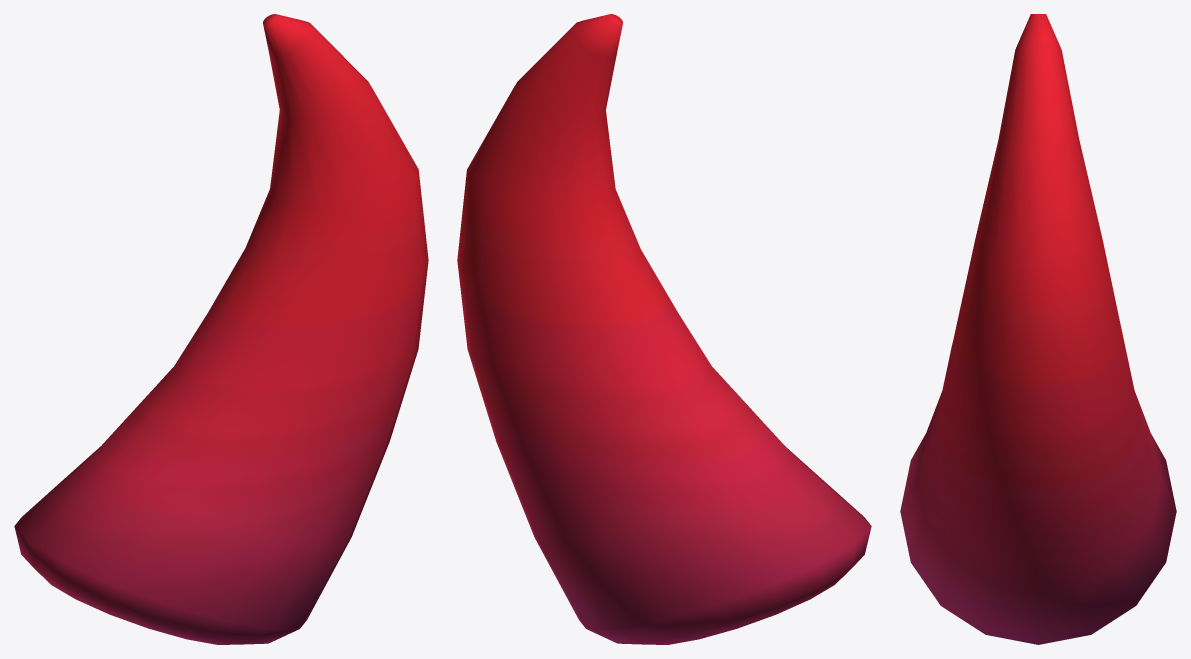
File: horns.fbx
3 renders of one model, left to right at view 1: azimuth 30°, elevation 25°; view 2: azimuth 150°, elevation 25°; view 3: azimuth 270°, elevation 25°, orthographic. The views are drawn at different scales.
Visible parts, largest first — view 1: devil_horns_0; view 2: devil_horns_0; view 3: devil_horns_0.
Part boxes in pixels (x1,y1,x2,y2): devil_horns_0: [14, 14, 428, 644]; devil_horns_0: [457, 14, 871, 644]; devil_horns_0: [900, 14, 1176, 644].
Size of the model in its own units: 1.1 by 1.63 by 0.6419.
